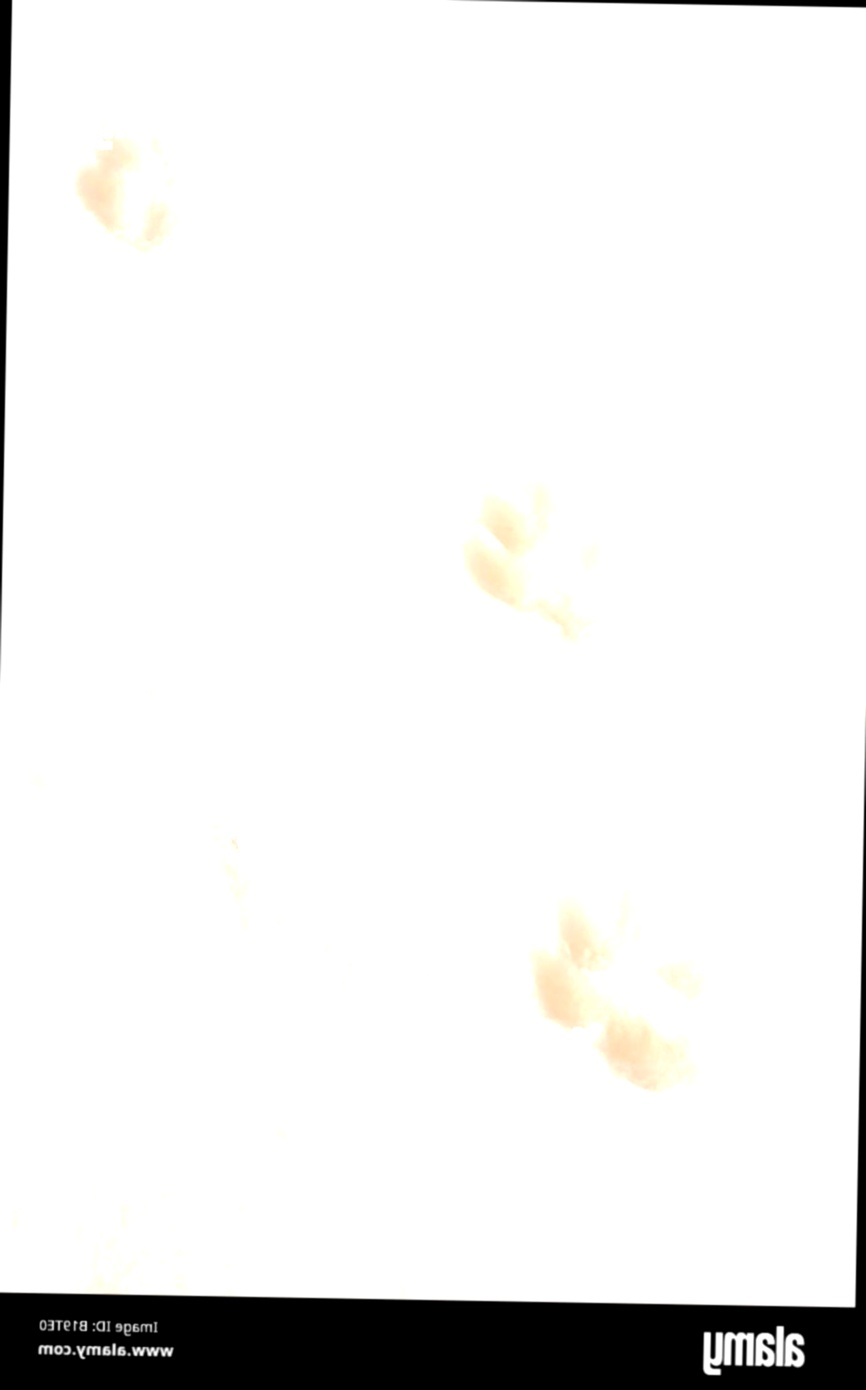loup: (50, 830, 397, 1126), (161, 405, 456, 654), (616, 73, 837, 273)
